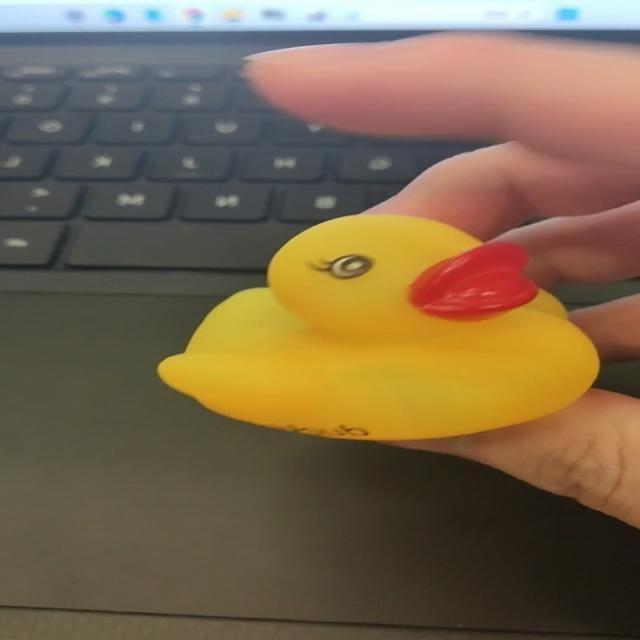rubber-duck: (157, 214, 597, 439)
